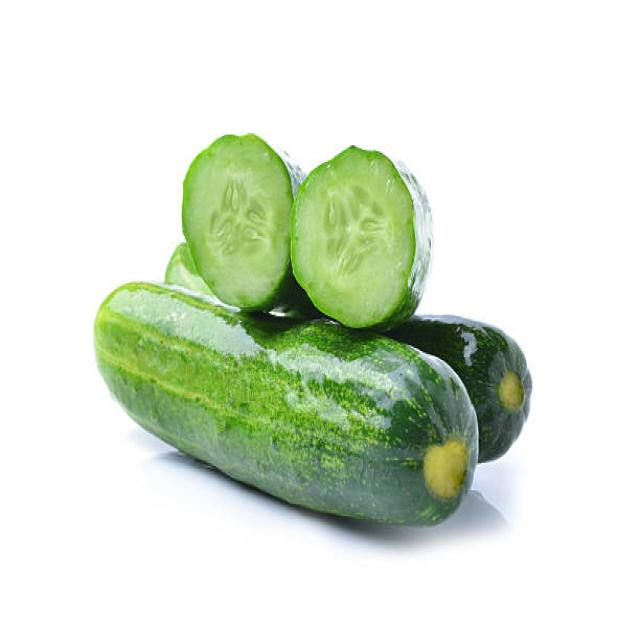cucumber: (92, 276, 480, 530)
